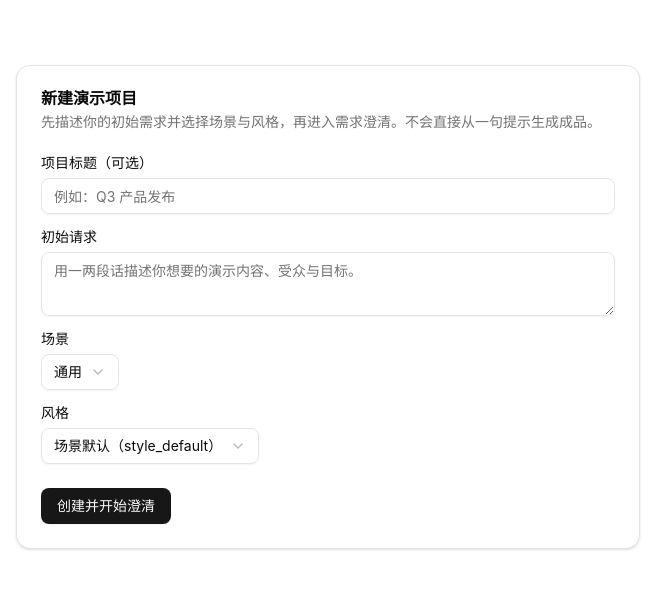
project creation page › shows a non-field error as a banner without crashing (502)
The image size is (657, 616).
Click the button "创建并开始澄清": (106, 506) [41, 488, 171, 524]
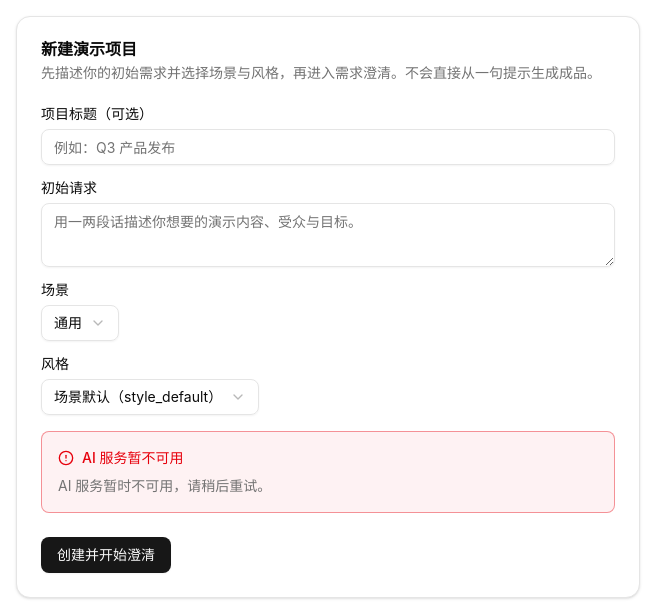
Expected: the message "AI 服务暂不可用 AI 服务暂时不可用，请稍后重试。" is shown, [41, 431, 615, 513]
